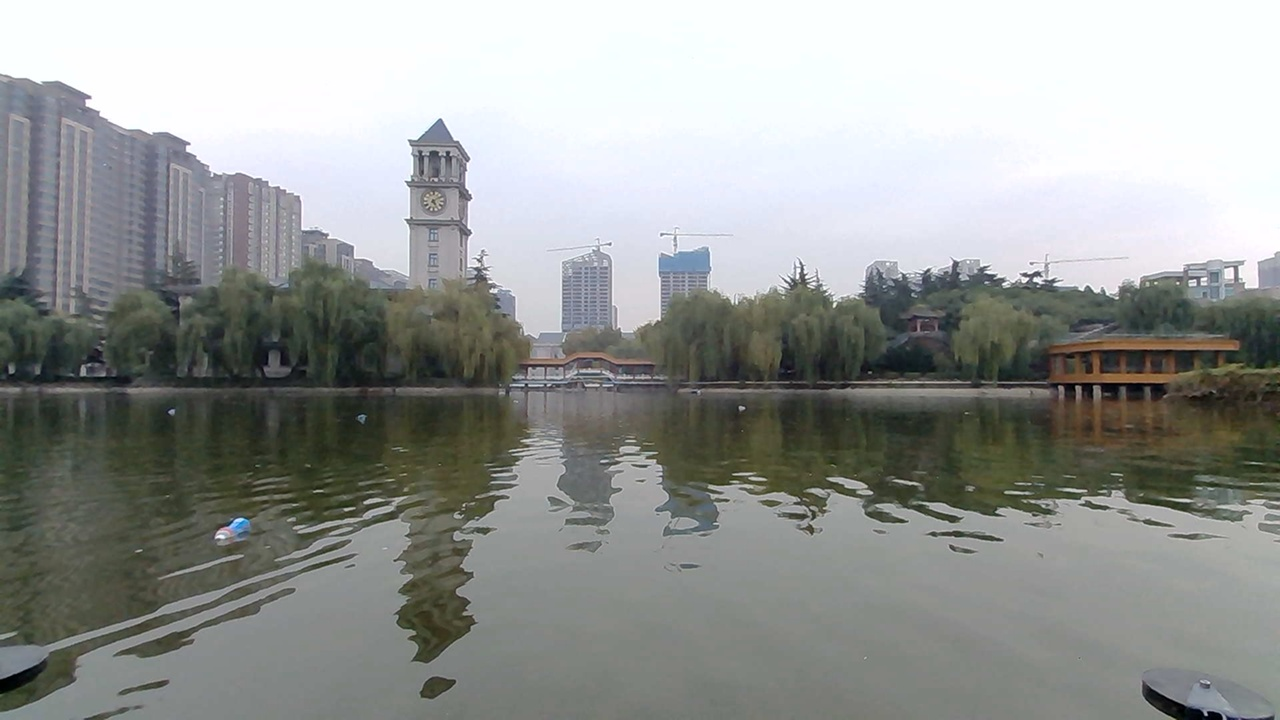bottle: (207, 508, 292, 548), (153, 398, 189, 422), (347, 403, 381, 425), (725, 398, 761, 417)
